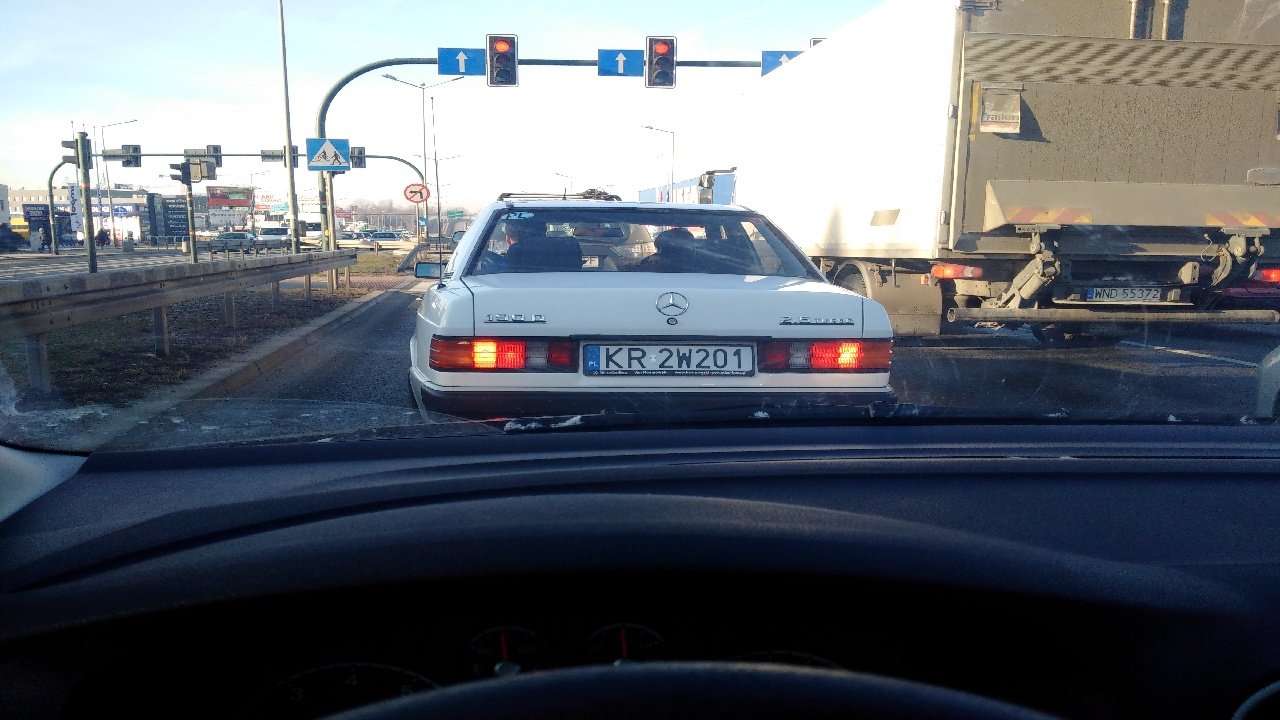B21: (401, 181, 435, 204)
D6b: (302, 136, 355, 172)
